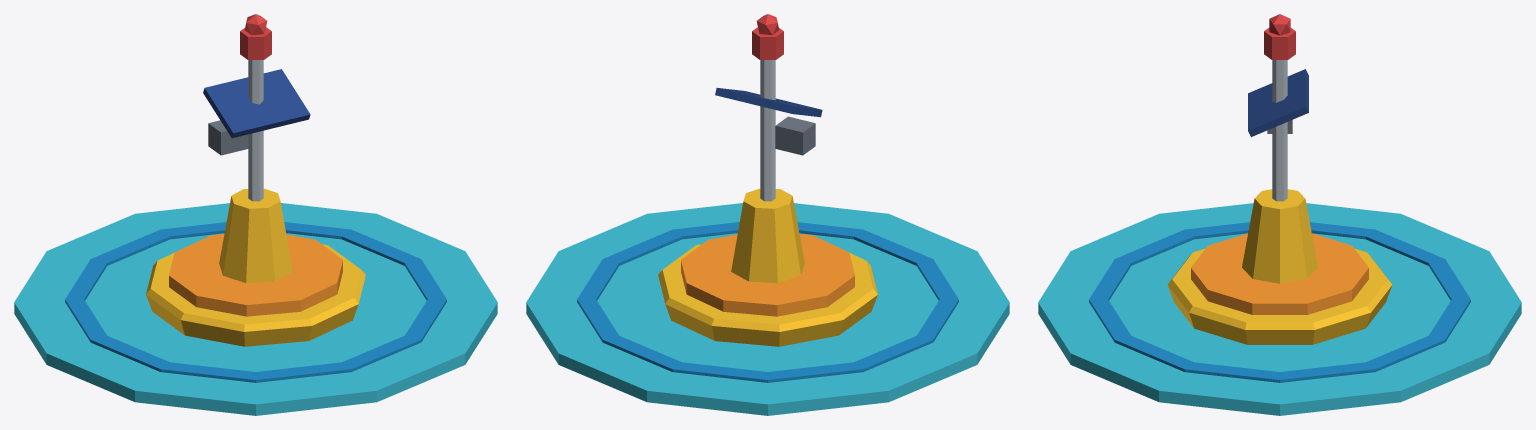
Rendered from kit-cidade-boia-rio.glb.
3 renders of one model, left to right at view 1: azimuth 30°, elevation 25°; view 2: azimuth 150°, elevation 25°; view 3: azimuth 270°, elevation 25°, orthographic.
Visible parts, largest first — view 1: corpo; view 2: corpo; view 3: corpo.
Part boxes in pixels (<box>): corpo: <box>14,14,497,415</box>; corpo: <box>526,14,1009,415</box>; corpo: <box>1038,14,1521,415</box>.
Size of the model in its own units: 0.76 by 0.52 by 0.76.
